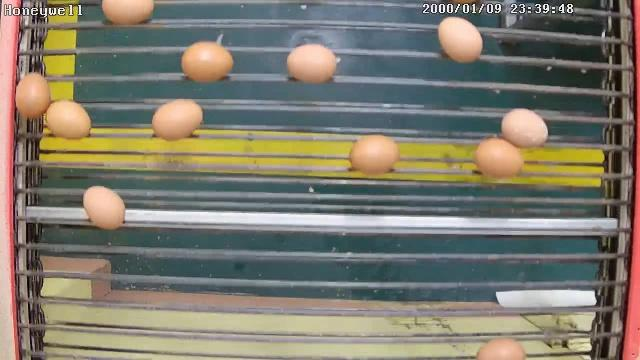egg: (180, 40, 235, 84), (151, 98, 203, 143), (348, 132, 401, 176), (285, 42, 337, 85), (438, 15, 483, 63), (474, 136, 524, 179), (83, 183, 127, 231), (501, 108, 550, 150), (45, 98, 91, 142), (13, 72, 52, 120)
